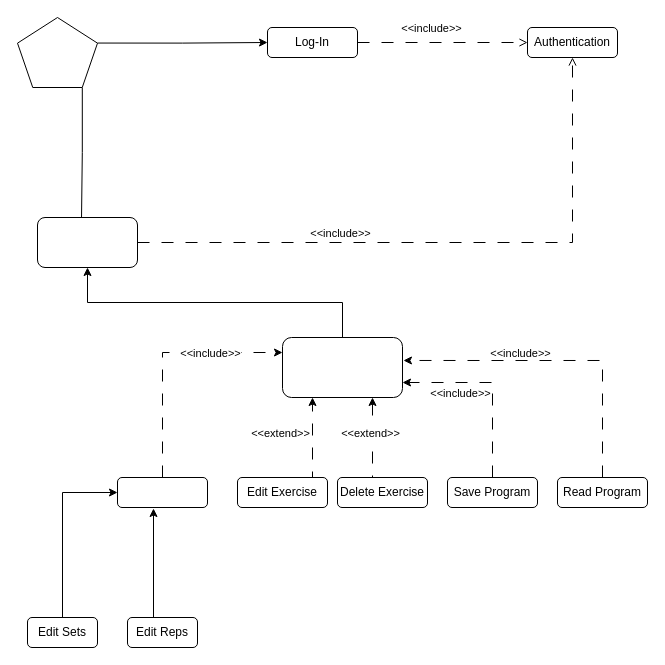
Some shapes in this 665 by 665 pixel diagram are drawn without their labels. Here are the shapes that lost their labels. From the top down, the box of each, then its label:
(16, 16, 98, 88): User
(36, 216, 138, 268): Online gym training program
(282, 336, 402, 398): Create Gym Training Program
(116, 476, 208, 508): Add Exercise
